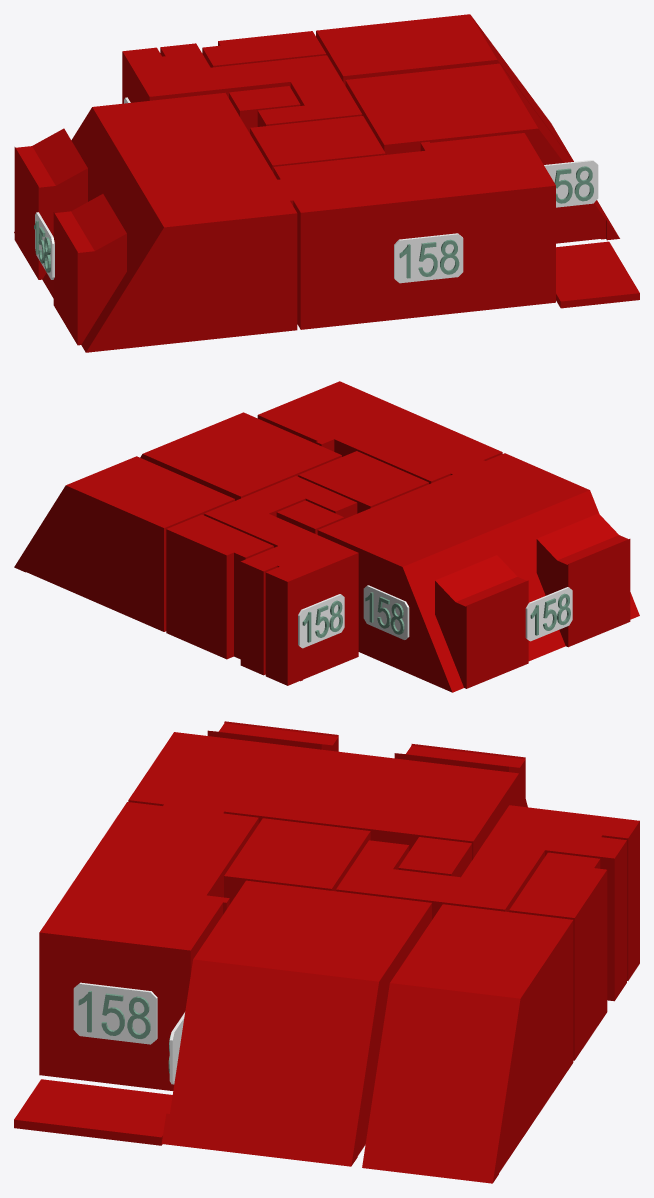
3 renders of one model, top to bottom at view 1: azimuth 30°, elevation 25°; view 2: azimuth 150°, elevation 25°; view 3: azimuth 270°, elevation 25°, orthographic. The views are drawn at different scales.
Visible parts, largest first — view 1: g_0, g_1, g_2, g_5, g_3, g_4, g_8, g_7, g_32, g_6, g_12, g_28; view 2: g_0, g_3, g_5, g_1, g_7, g_2, g_4, g_24, g_28, g_20, g_6; view 3: g_2, g_3, g_1, g_0, g_5, g_7, g_4, g_8, g_16, g_6.
Part boxes in pixels (x1=…): g_0: x1=14, y1=92, x2=297, y2=352; g_1: x1=273, y1=133, x2=555, y2=329; g_2: x1=345, y1=63, x2=619, y2=243; g_5: x1=122, y1=43, x2=362, y2=126; g_3: x1=316, y1=14, x2=573, y2=161; g_4: x1=250, y1=116, x2=385, y2=172; g_8: x1=556, y1=241, x2=639, y2=308; g_7: x1=202, y1=31, x2=326, y2=67; g_32: x1=394, y1=233, x2=463, y2=283; g_6: x1=229, y1=86, x2=300, y2=133; g_12: x1=544, y1=160, x2=598, y2=207; g_28: x1=35, y1=212, x2=54, y2=279; g_0: x1=317, y1=453, x2=639, y2=692; g_3: x1=14, y1=456, x2=234, y2=631; g_5: x1=204, y1=476, x2=358, y2=685; g_1: x1=257, y1=381, x2=502, y2=483; g_7: x1=166, y1=514, x2=273, y2=659; g_2: x1=140, y1=412, x2=341, y2=500; g_4: x1=298, y1=451, x2=428, y2=513; g_24: x1=363, y1=585, x2=409, y2=639; g_28: x1=525, y1=587, x2=572, y2=641; g_20: x1=298, y1=594, x2=344, y2=648; g_6: x1=276, y1=500, x2=343, y2=534; g_2: x1=161, y1=880, x2=431, y2=1166; g_3: x1=362, y1=904, x2=573, y2=1183; g_1: x1=39, y1=802, x2=258, y2=1090; g_0: x1=128, y1=721, x2=527, y2=860; g_5: x1=336, y1=805, x2=639, y2=1001; g_7: x1=509, y1=852, x2=607, y2=1060; g_4: x1=224, y1=818, x2=370, y2=904; g_8: x1=14, y1=1079, x2=172, y2=1145; g_16: x1=73, y1=982, x2=157, y2=1044; g_6: x1=398, y1=837, x2=471, y2=877.
Bounding box in the file's own units: 13.31 × 2.71 × 10.12.
